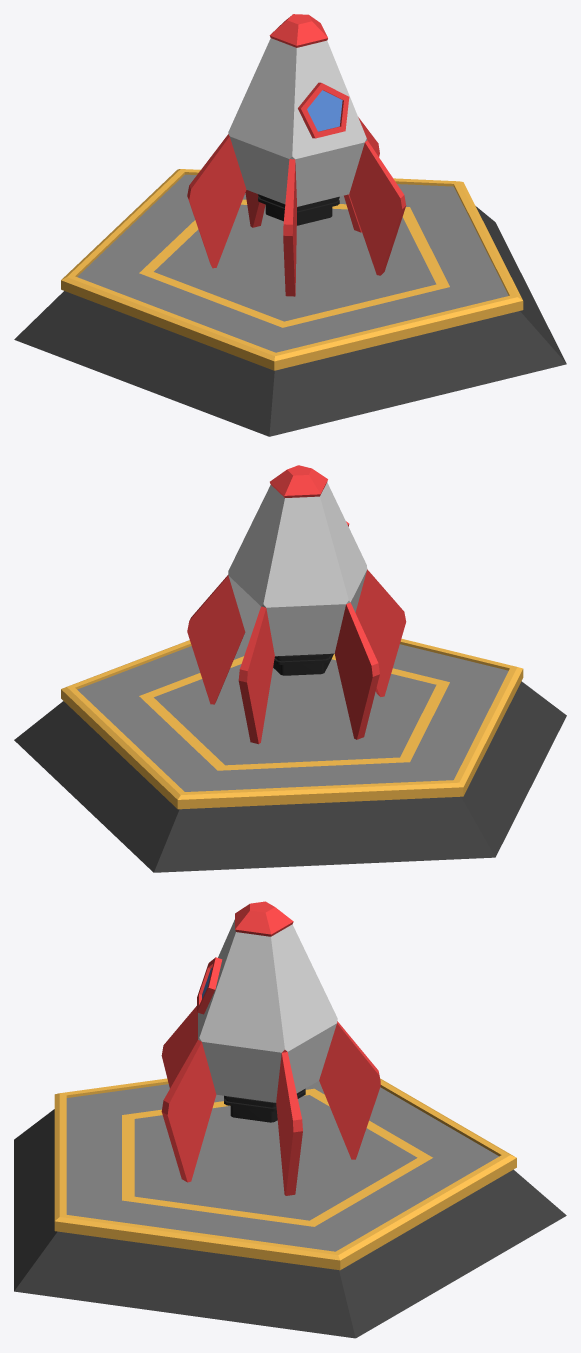
The model's file is rocket.glb.
3 renders of one model, top to bottom at view 1: azimuth 30°, elevation 25°; view 2: azimuth 150°, elevation 25°; view 3: azimuth 270°, elevation 25°, orthographic. The views are drawn at different scales.
Parts seen in each view (by area): view 1: Launchpad_7, Rocket_Fuselage_3, Rocket_Fins_2, Rocket_Window_6, Rocket_Nose_4, Rocket_Thruster_5; view 2: Launchpad_7, Rocket_Fuselage_3, Rocket_Fins_2, Rocket_Nose_4, Rocket_Thruster_5; view 3: Launchpad_7, Rocket_Fuselage_3, Rocket_Fins_2, Rocket_Nose_4, Rocket_Thruster_5, Rocket_Window_6.
Boxes of the visible parts, x1,y1,x2,y2 form: Launchpad_7: (14, 169, 566, 436); Rocket_Fuselage_3: (228, 38, 367, 206); Rocket_Fins_2: (187, 117, 406, 296); Rocket_Window_6: (298, 82, 349, 138); Rocket_Nose_4: (269, 14, 327, 47); Rocket_Thruster_5: (258, 194, 339, 225); Launchpad_7: (14, 632, 566, 872); Rocket_Fuselage_3: (228, 482, 367, 656); Rocket_Fins_2: (187, 569, 406, 744); Rocket_Nose_4: (270, 465, 327, 497); Rocket_Thruster_5: (273, 653, 333, 675); Launchpad_7: (14, 1078, 566, 1338); Rocket_Fuselage_3: (198, 919, 337, 1102); Rocket_Fins_2: (161, 1006, 380, 1195); Rocket_Nose_4: (235, 901, 293, 936); Rocket_Thruster_5: (224, 1088, 305, 1122); Rocket_Window_6: (197, 957, 222, 1014).
Size of the model in its own units: 9.18 by 5.38 by 8.73.
